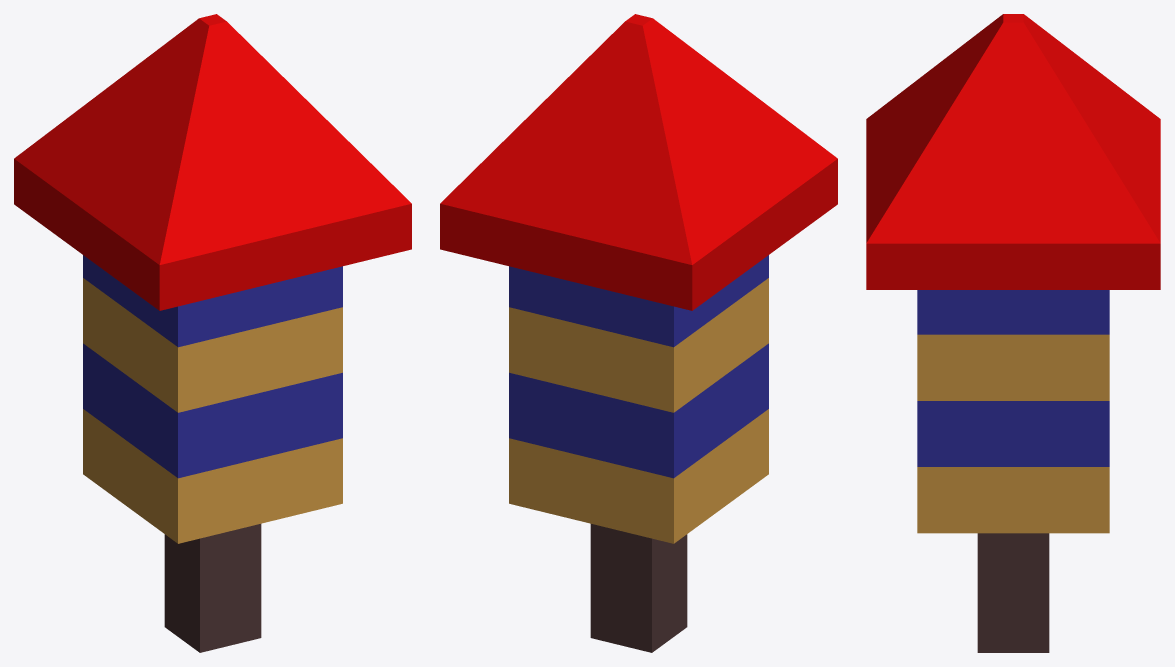
File: 030 Xmas_Crackers.fbx
The picture shows the model from 3 angles, left to right: view 1: azimuth 30°, elevation 25°; view 2: azimuth 150°, elevation 25°; view 3: azimuth 270°, elevation 25°; orthographic projection.
Parts seen in each view (by area): view 1: Lowpoly_Christmas_Pack_030:pCube1; view 2: Lowpoly_Christmas_Pack_030:pCube1; view 3: Lowpoly_Christmas_Pack_030:pCube1.
Part boxes in pixels (x1,y1,x2,y2): Lowpoly_Christmas_Pack_030:pCube1: (14,14,411,652); Lowpoly_Christmas_Pack_030:pCube1: (440,14,837,652); Lowpoly_Christmas_Pack_030:pCube1: (866,14,1160,652).
Size of the model in its own units: 1.3 by 3.02 by 1.3.
